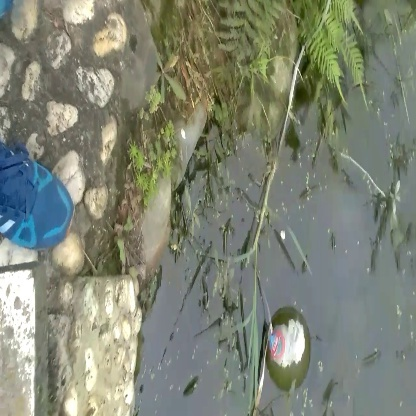plastic-bag: (261, 308, 317, 371)
